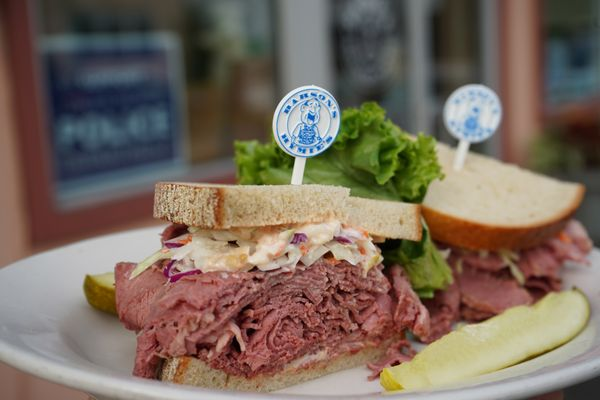soup: (114, 180, 428, 390), (420, 147, 593, 322)
